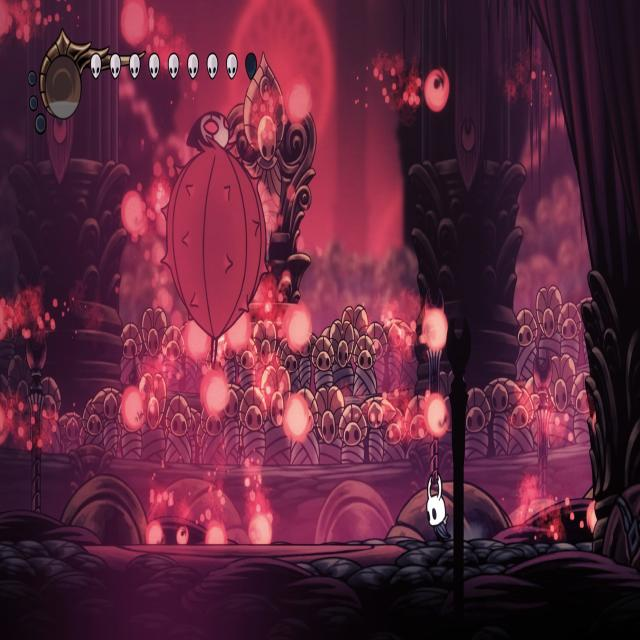Player: (424, 468, 452, 547)
Pufferfish: (158, 109, 272, 366)
Tiny Fireballs: (120, 0, 150, 49), (200, 369, 229, 418), (286, 80, 314, 127), (120, 190, 146, 240), (285, 394, 312, 442), (286, 304, 313, 352), (423, 308, 449, 352), (425, 394, 449, 439), (122, 388, 146, 432), (424, 70, 448, 113), (184, 321, 208, 363), (228, 313, 252, 353), (249, 513, 272, 545), (206, 522, 226, 545), (586, 498, 597, 536), (0, 0, 10, 37), (0, 300, 6, 342)
